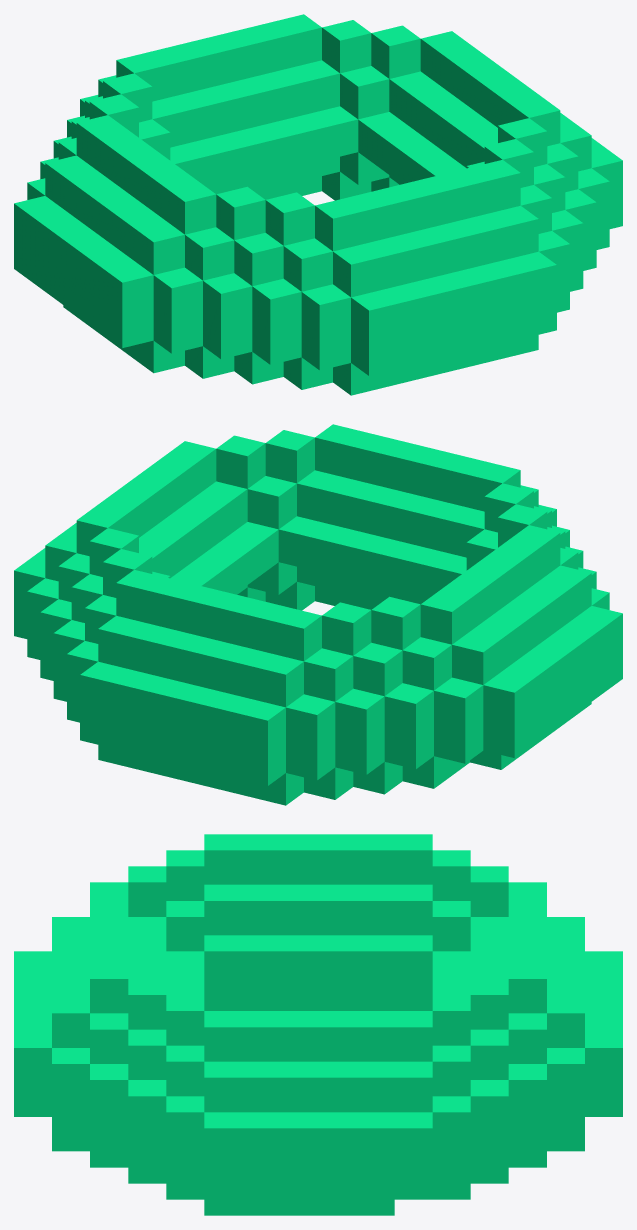
The model's file is koiru.obj.
3 views of the same model, one above another, from view 1: azimuth 30°, elevation 25°; view 2: azimuth 150°, elevation 25°; view 3: azimuth 270°, elevation 25° (orthographic). The views are drawn at different scales.
Bounding box in the file's own units: 16 × 5 × 16.
